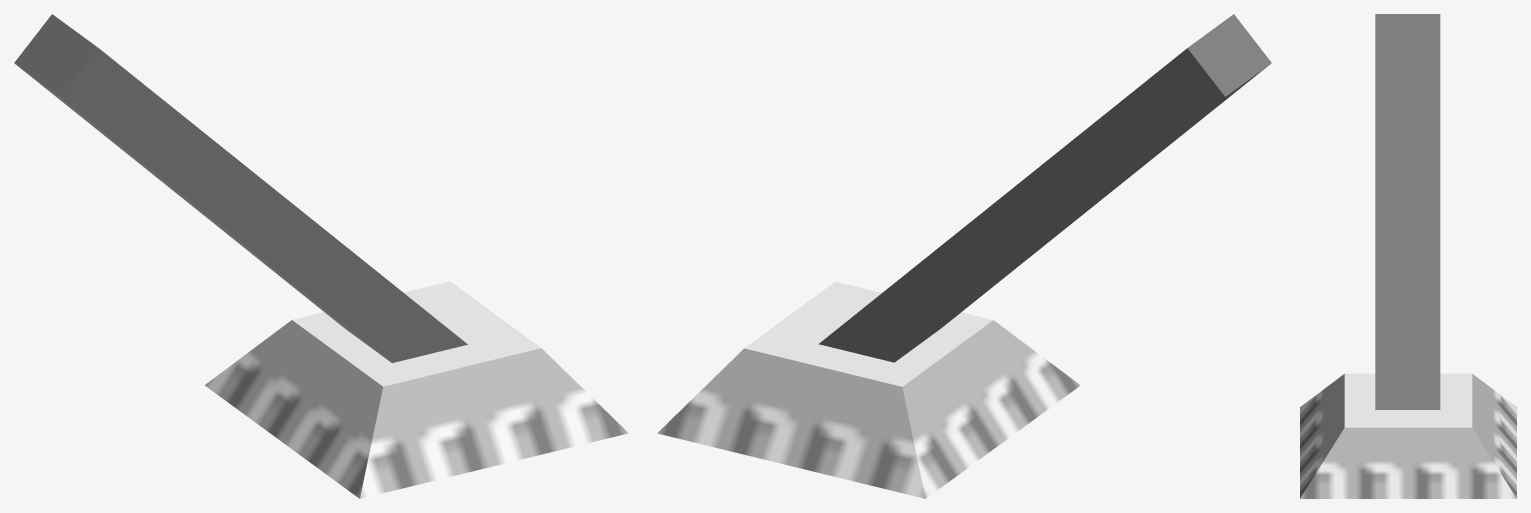
Rendered from lem2f.obj.
3 renders of one model, left to right at view 1: azimuth 30°, elevation 25°; view 2: azimuth 150°, elevation 25°; view 3: azimuth 270°, elevation 25°, orthographic. The views are drawn at different scales.
Visible parts, largest first — view 1: ColobotMesh_1_ColobotMesh_; view 2: ColobotMesh_1_ColobotMesh_; view 3: ColobotMesh_1_ColobotMesh_.
Part boxes in pixels (x1,y1,x2,y2): ColobotMesh_1_ColobotMesh_: [14, 14, 628, 498]; ColobotMesh_1_ColobotMesh_: [657, 14, 1271, 498]; ColobotMesh_1_ColobotMesh_: [1300, 14, 1516, 498].
Bounding box in the file's own units: 3.82 × 3.28 × 2.
